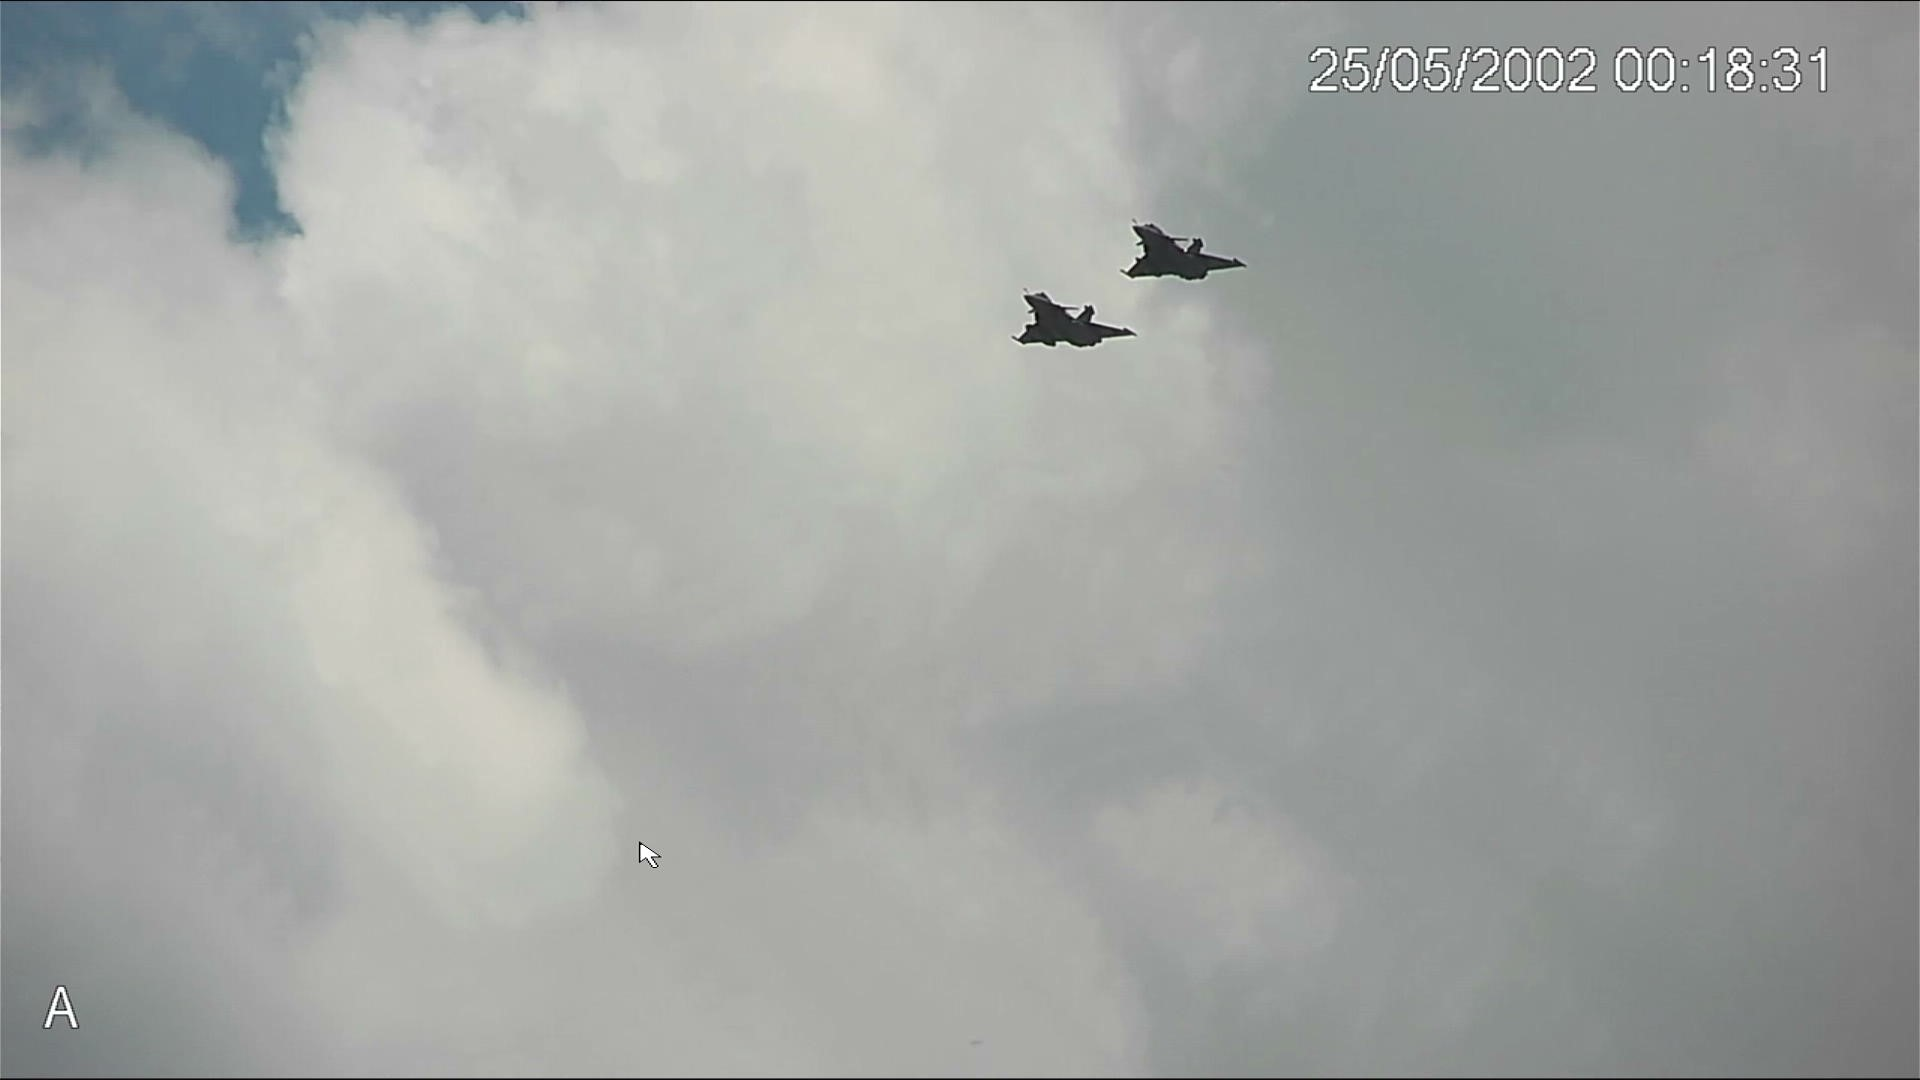SU_30: (1112, 214, 1246, 293), (1001, 286, 1139, 360)
